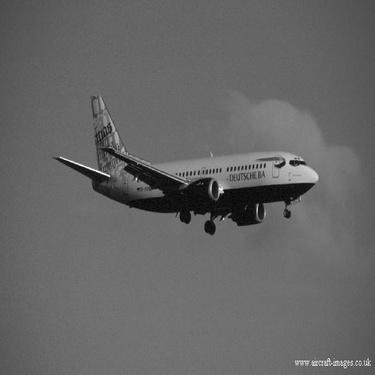airplane: (40, 83, 325, 243)
